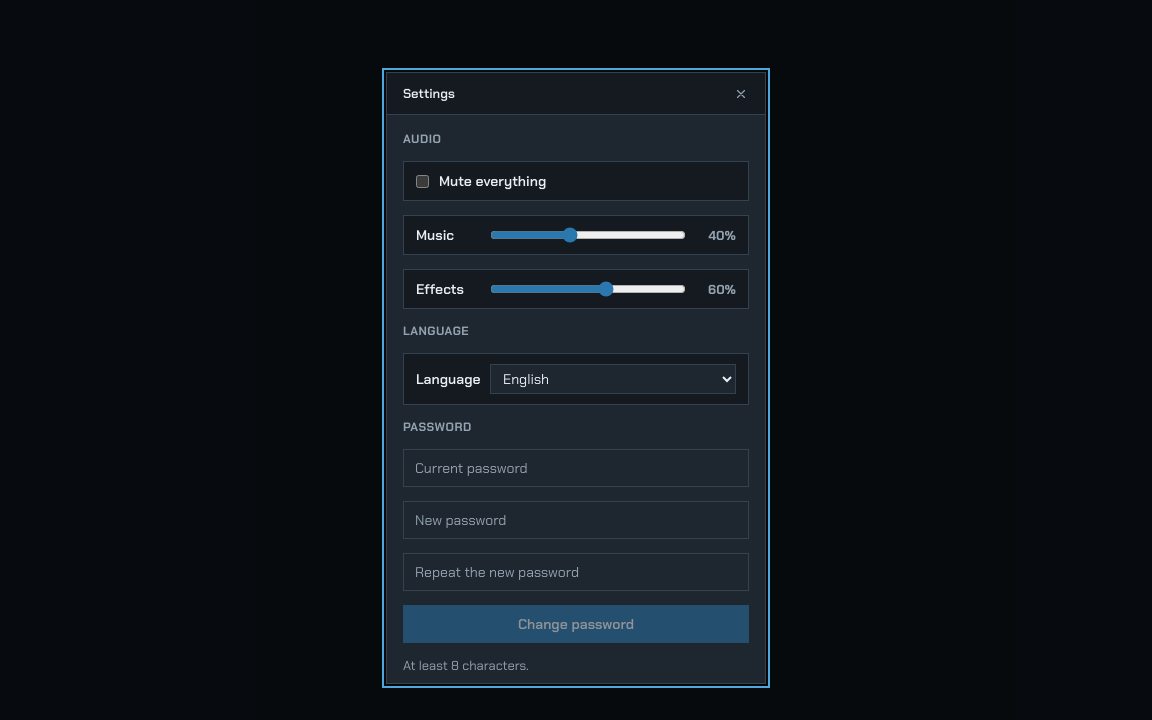
Test: SettingsModal › mutes from the checkbox and disables the sliders
What coordinates should you click on to do the following:
click the checkbox labelled "Mute everything"
I would click on:
 (422, 181)
Its box is x1=416 y1=174 x2=429 y2=188.
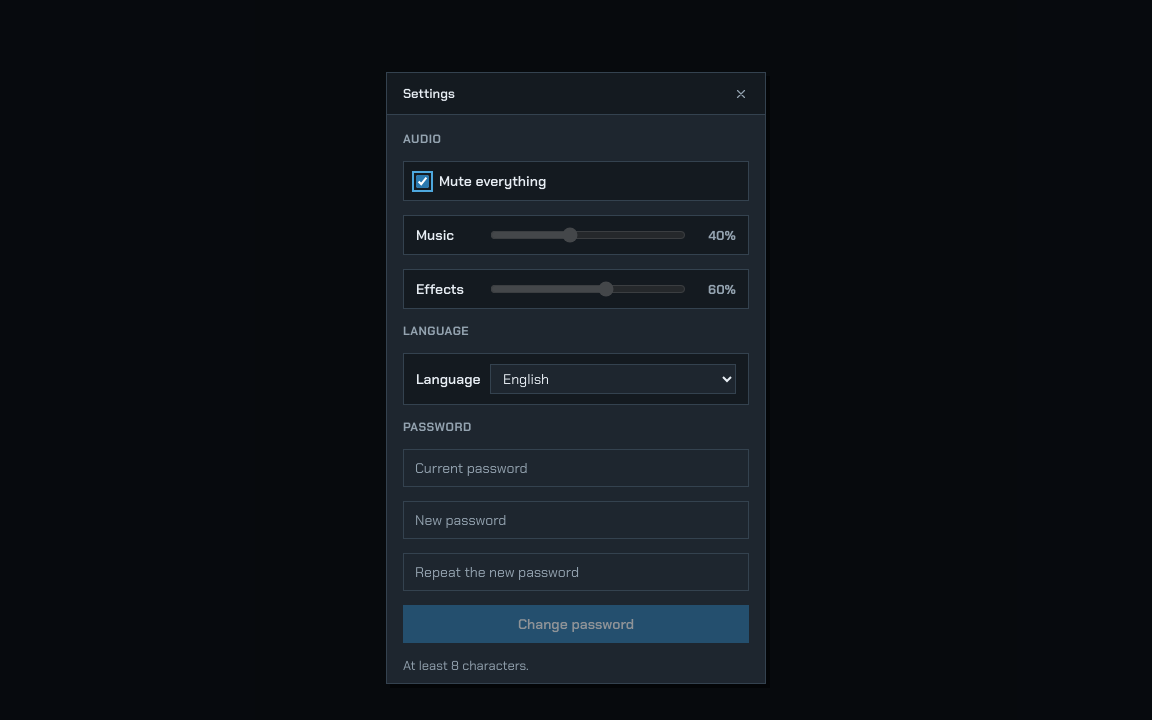
Expected: the slider labelled "Music" is disabled, x1=490 y1=227 x2=686 y2=243
